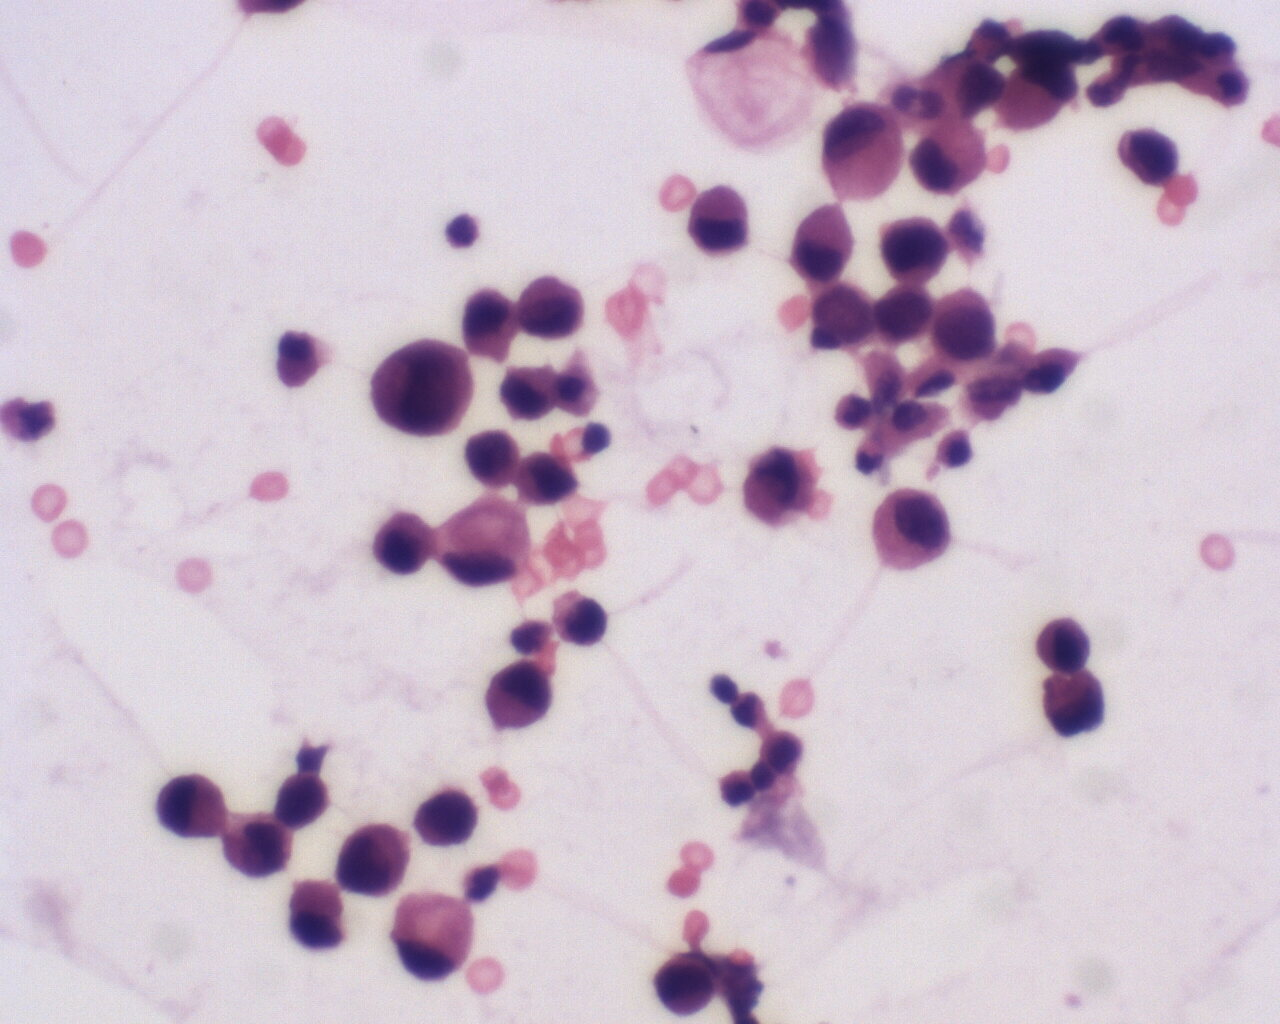ab: (360, 336, 478, 436), (734, 443, 827, 532), (869, 488, 954, 578), (335, 818, 424, 900), (871, 210, 949, 286), (517, 269, 585, 349), (1039, 672, 1111, 747), (930, 284, 998, 364), (222, 810, 296, 882), (808, 277, 879, 352), (1110, 125, 1189, 192), (155, 771, 228, 842), (685, 185, 754, 259), (649, 952, 719, 1022), (374, 501, 435, 577), (513, 449, 584, 509), (272, 769, 335, 832), (461, 428, 525, 490), (415, 789, 475, 853), (1035, 614, 1098, 675), (497, 359, 556, 421), (874, 287, 931, 349)
histo: (686, 27, 817, 155), (430, 493, 536, 594), (817, 98, 915, 202), (387, 893, 478, 984)
lymph: (439, 208, 484, 250)
meso: (483, 659, 558, 737)
